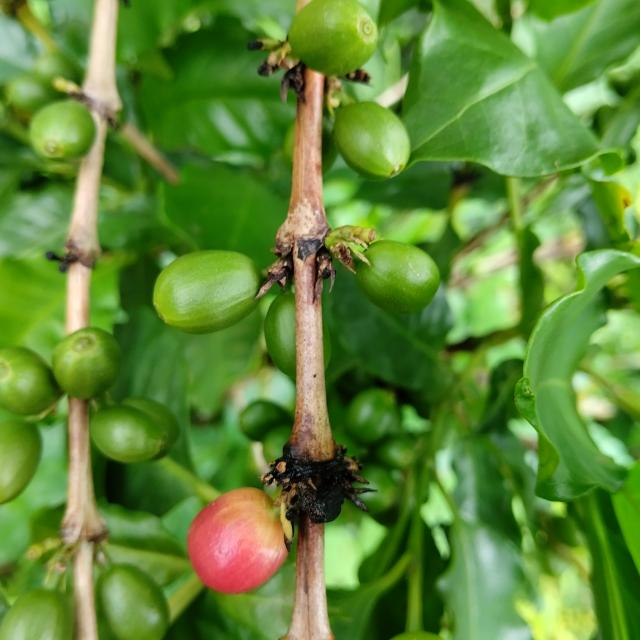green: (152, 250, 262, 334), (288, 0, 378, 75), (356, 240, 440, 314), (334, 101, 411, 179), (90, 405, 165, 463), (264, 292, 296, 380), (323, 325, 331, 368)
red: (187, 488, 288, 595)
